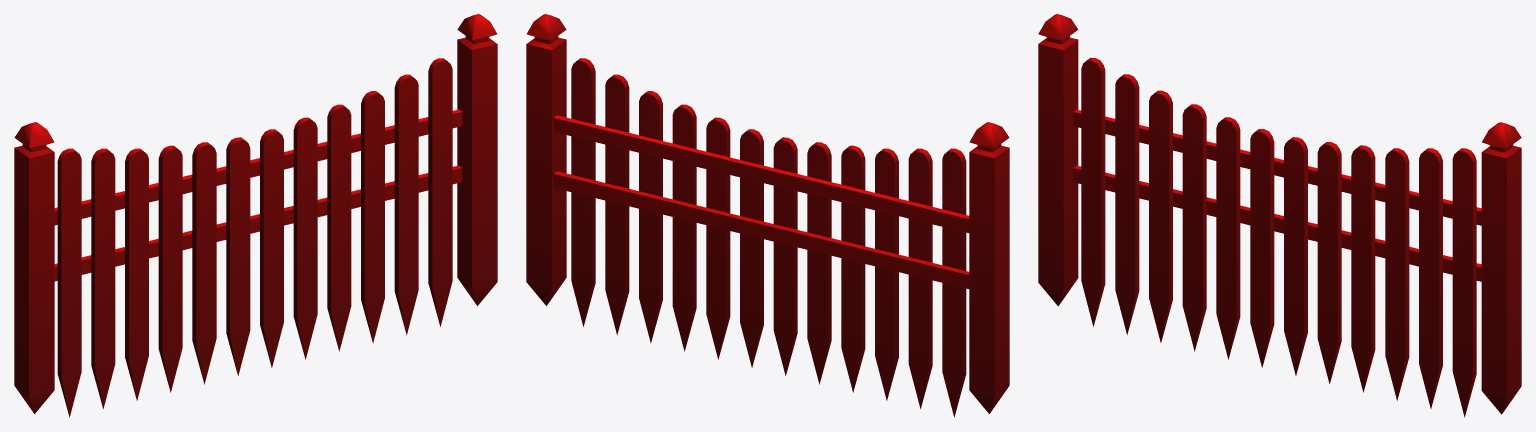
File: RoundedWhiteFence.glb
The picture shows the model from 3 angles, left to right: view 1: azimuth 30°, elevation 25°; view 2: azimuth 150°, elevation 25°; view 3: azimuth 330°, elevation 25°; orthographic projection.
Parts seen in each view (by area): view 1: RoundedWhiteFence; view 2: RoundedWhiteFence; view 3: RoundedWhiteFence.
Boxes of the visible parts, box(x1,y1,x2,y2) form: RoundedWhiteFence: box(14, 14, 497, 417); RoundedWhiteFence: box(526, 14, 1009, 417); RoundedWhiteFence: box(1038, 14, 1521, 417).
Bounding box in the file's own units: 17.37 × 10.73 × 0.9449.
